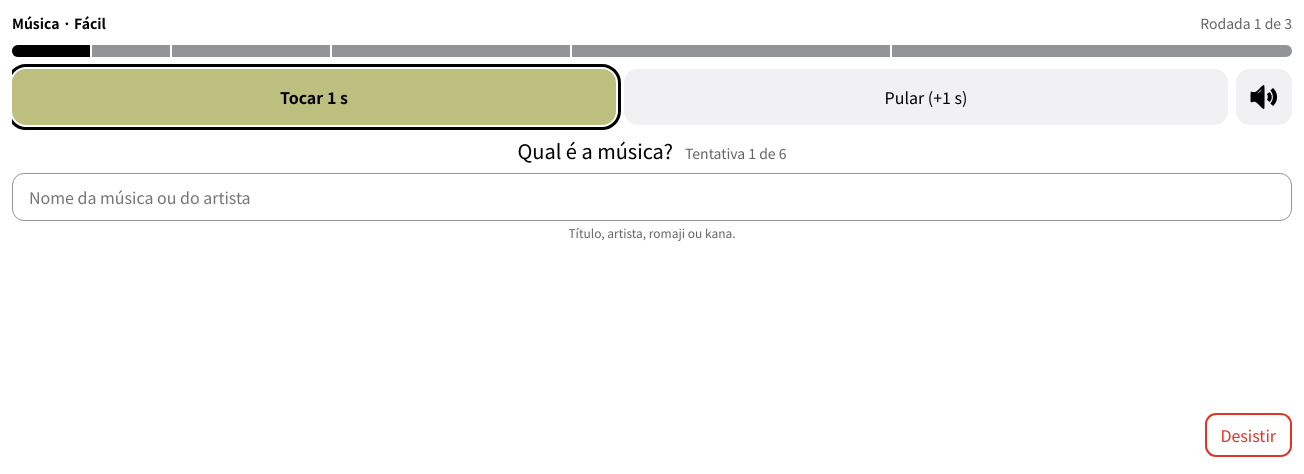
Anime: o diário › no acertar a música, a revelação também diz o anime, no lugar do álbum
Click the button "Desistir". click: (1248, 435)
box: [1204,413,1292,457]
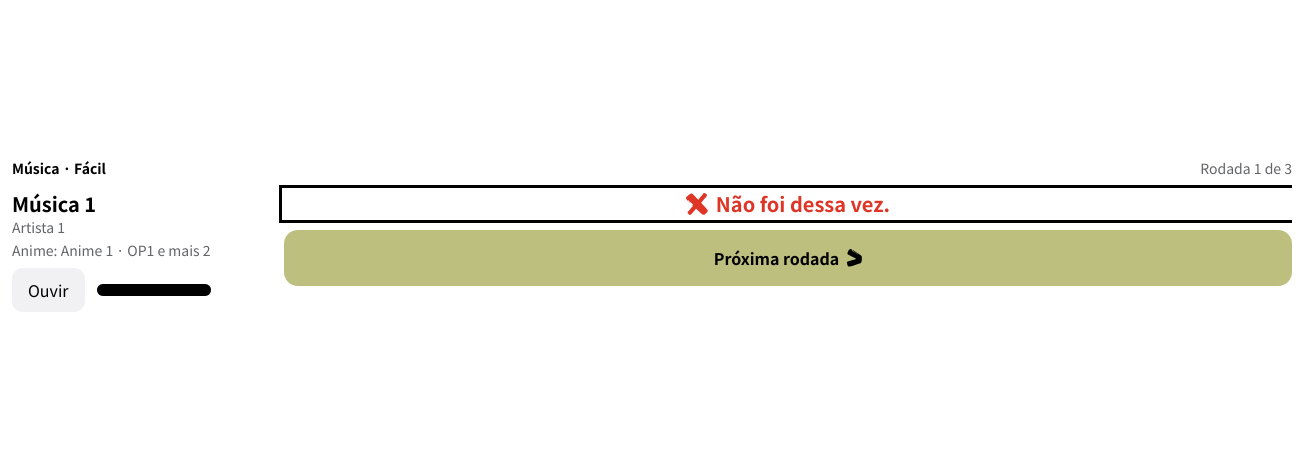
Check: the element with class "album" reads "Anime: Anime 1 · OP1 e mais 2", box [12,240,210,260]
